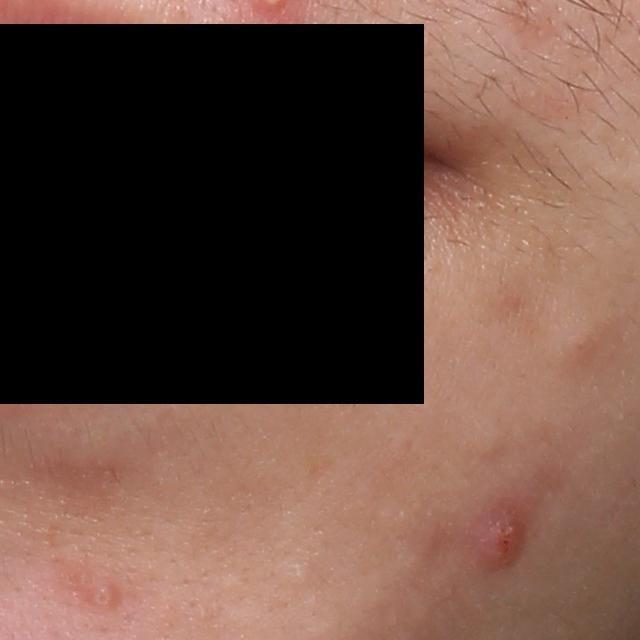comedo: (555, 322, 613, 365)
papule: (483, 507, 534, 579)
pustule: (88, 583, 115, 609)
